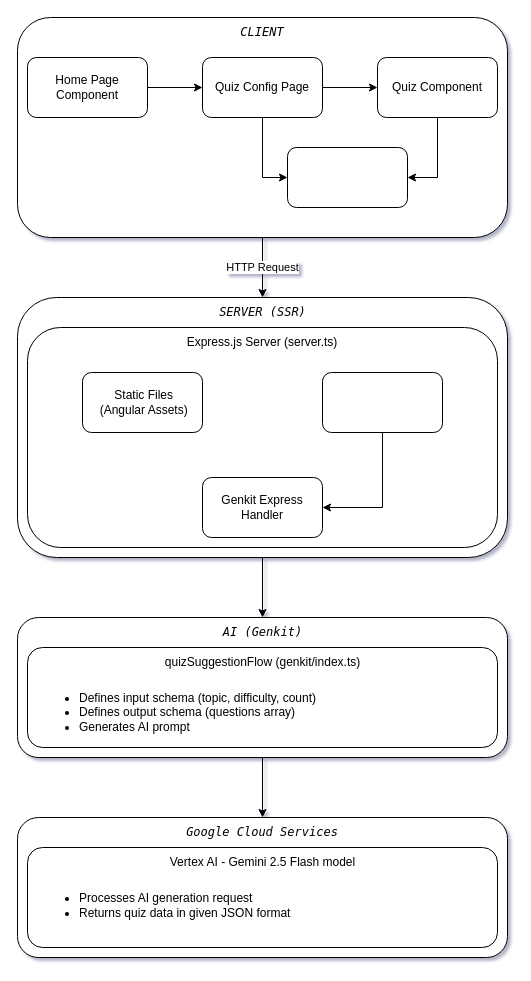
Image size: 531x981. Some labels were removed from this diagram. Here are the shapes that lost their labels. From the top down, the centre of each, then its label:
the point at 347,177: AI Quiz Assistant Service
the point at 382,402: API Routes /api/quiz-suggestions
